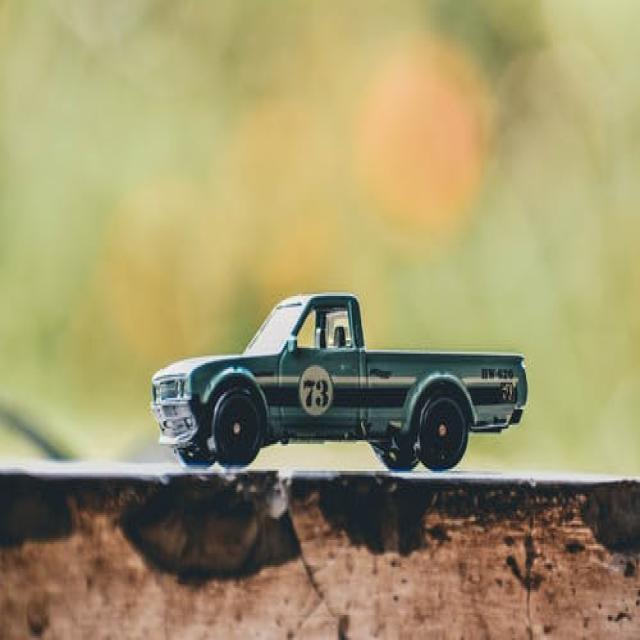Car: (150, 290, 527, 471)
